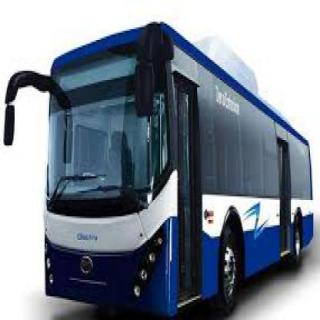Normal_vehicle: (2, 16, 317, 319)
